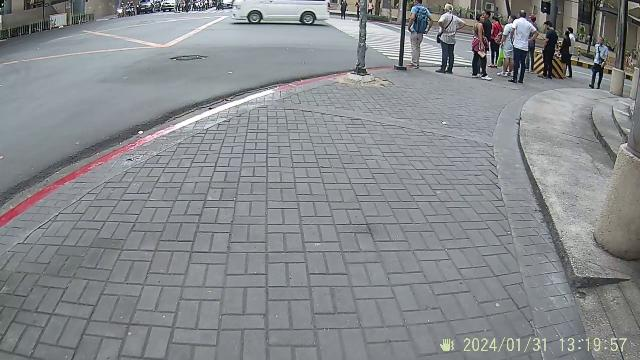utility_post: (356, 0, 370, 76)
